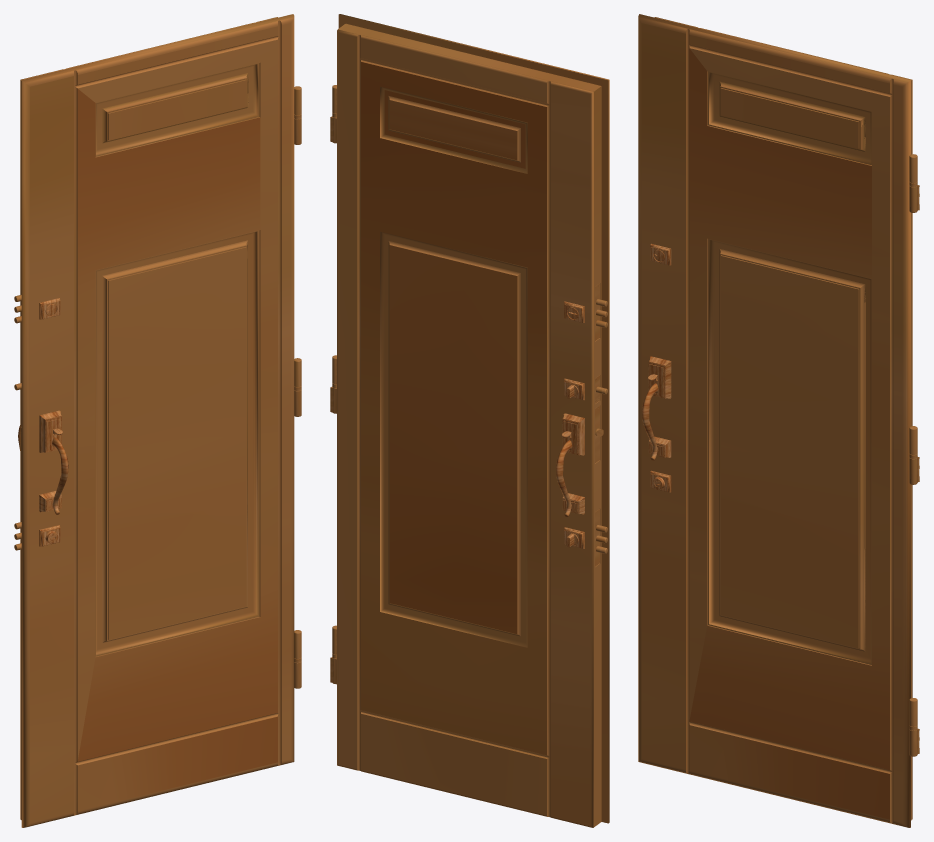
The model's file is puertaD.obj.
The picture shows the model from 3 angles, left to right: view 1: azimuth 30°, elevation 25°; view 2: azimuth 150°, elevation 25°; view 3: azimuth 330°, elevation 25°; orthographic projection.
Parts seen in each view (by area): view 1: Entrance_Door_003; view 2: Entrance_Door_003; view 3: Entrance_Door_003.
Part boxes in pixels (x1,y1,x2,y2): Entrance_Door_003: (14,14,301,827); Entrance_Door_003: (330,14,609,827); Entrance_Door_003: (638,14,919,827).
Bounding box in the file's own units: 79.69 × 202 × 23.85.
